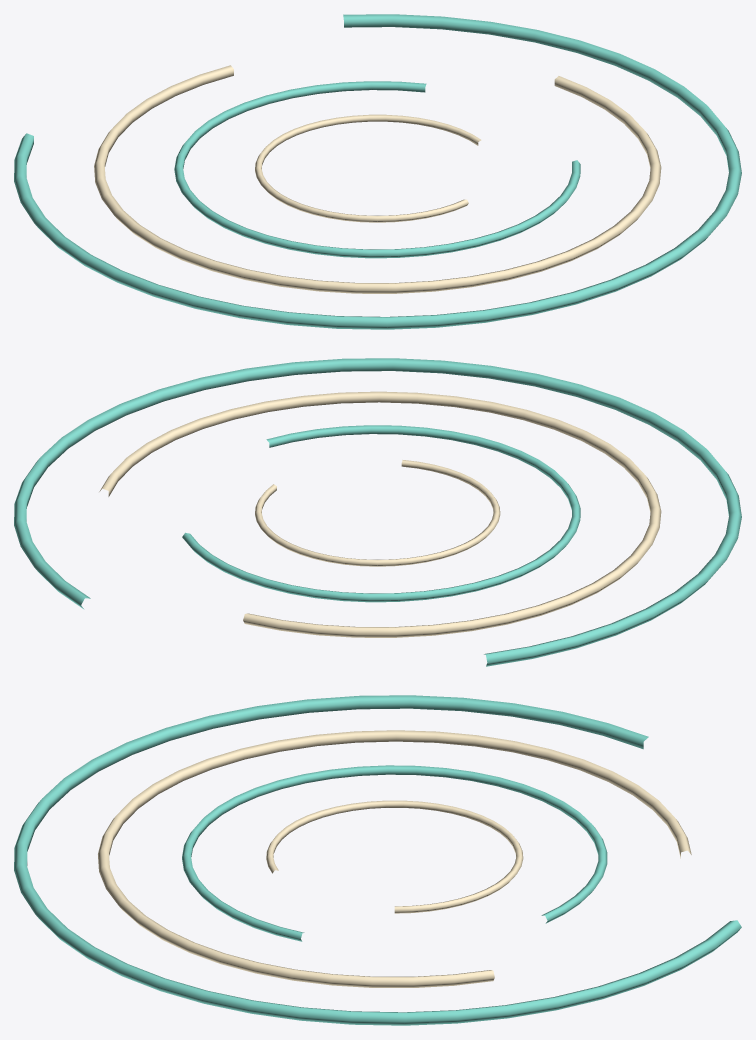
The model's file is tidal-whirlpool.glb.
3 renders of one model, top to bottom at view 1: azimuth 30°, elevation 25°; view 2: azimuth 150°, elevation 25°; view 3: azimuth 270°, elevation 25°, orthographic. The views are drawn at different scales.
Visible parts, largest first — view 1: spiral-current (×4); view 2: spiral-current (×4); view 3: spiral-current (×4).
Boxes of the visible parts, x1,y1,x2,y2 form: spiral-current (×4): (14,14,741,329); spiral-current (×4): (14,358,741,666); spiral-current (×4): (14,695,741,1025).
Bounding box in the file's own units: 27.5 × 0.5154 × 26.26.
